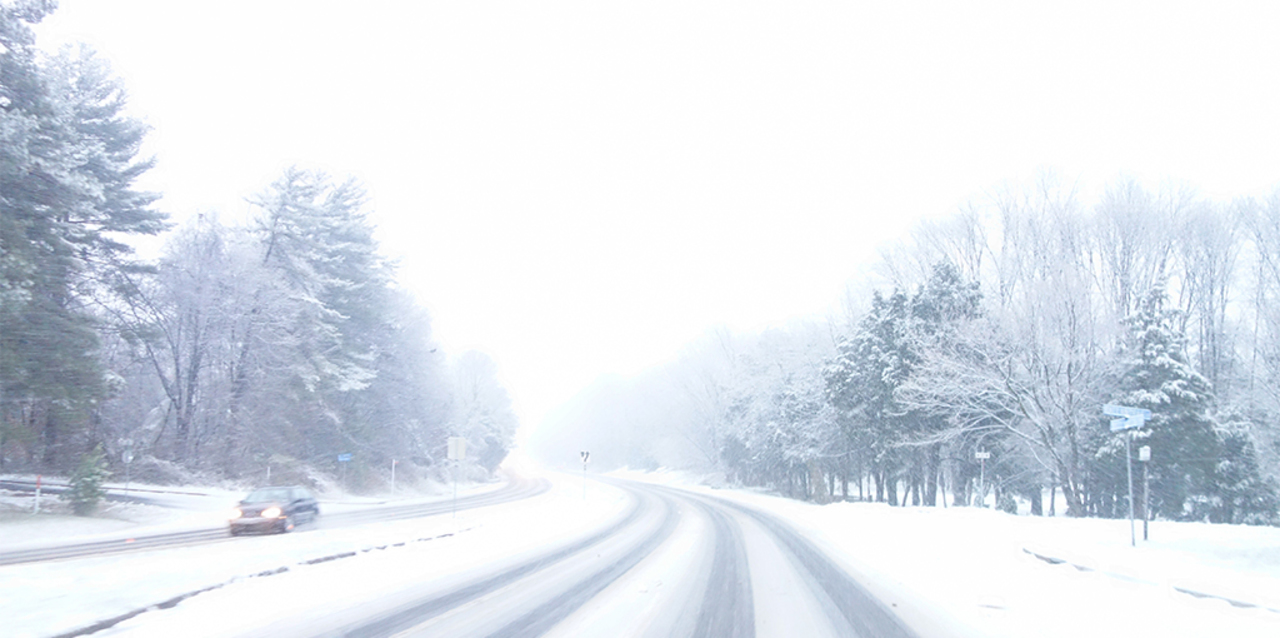car: (228, 486, 321, 536)
